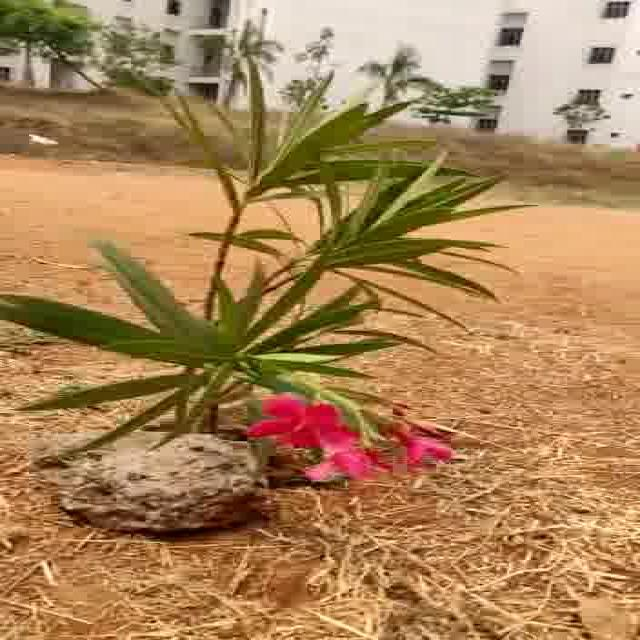Oleander: (92, 87, 494, 433)
